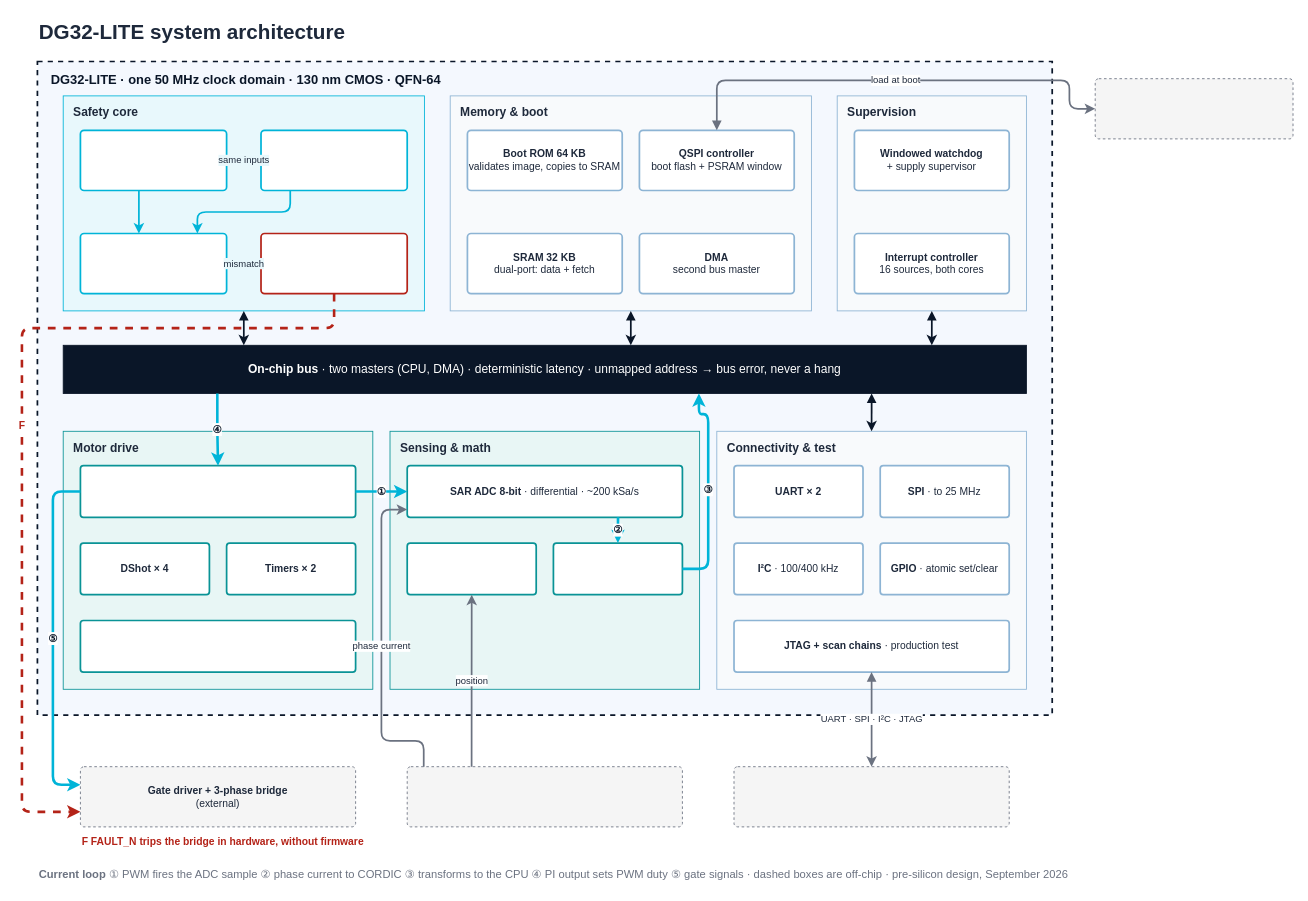
The diagram is 1308 pixels wide and 901 high, and some of its shapes have lost their labels. Here are the shapes that lost their labels. From the top down, the centre of each, then its label:
At point (1193, 108): "QSPI NOR flash application image (external)".
At point (153, 160): "MAIN core RV32IM · application".
At point (334, 160): "CHECKER core same inputs, 2 cycles behind".
At point (153, 263): "Lockstep comparator every committed store".
At point (334, 263): "Fault latch first cause · FAULT_N".
At point (217, 491): "3-phase PWM · dead-time · hardware brake".
At point (471, 568): "Encoder + Hall edge timestamps".
At point (617, 568): "CORDIC sin · cos · atan2".
At point (217, 646): "System control · clock gates · pin mux".
At point (544, 796): "Motor sensors encoder · Hall · phase-current shunt (external)".
At point (871, 796): "Host, sensors, test console · SPI/I²C devices · JTAG probe (external)".
